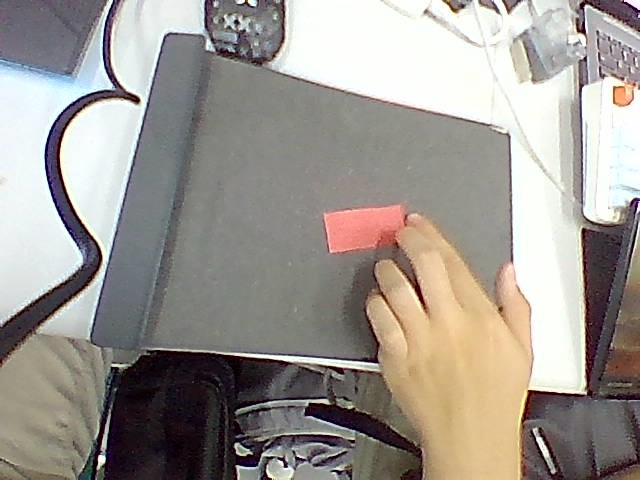card: (324, 205, 404, 253)
